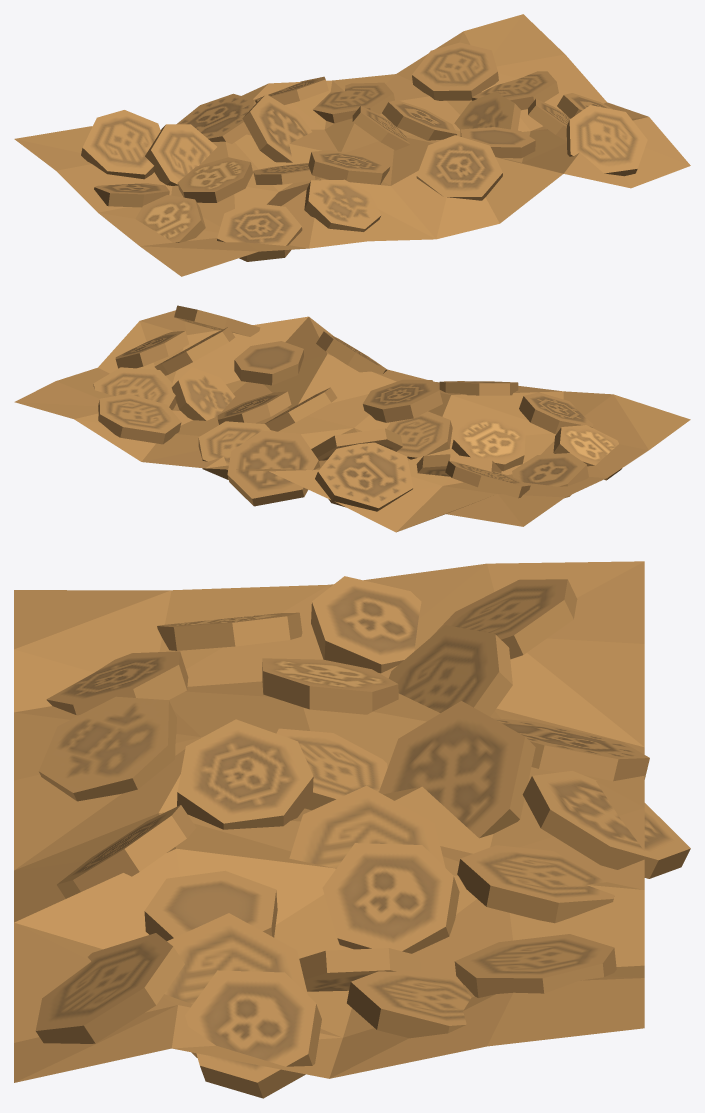
The model's file is SM_Prop_Treasure_Chest_06_Insert_01.fbx.
3 renders of one model, top to bottom at view 1: azimuth 30°, elevation 25°; view 2: azimuth 150°, elevation 25°; view 3: azimuth 270°, elevation 25°, orthographic. The views are drawn at different scales.
Parts seen in each view (by area): view 1: SM_Prop_Treasure_Chest_06_Insert_01; view 2: SM_Prop_Treasure_Chest_06_Insert_01; view 3: SM_Prop_Treasure_Chest_06_Insert_01.
Boxes of the visible parts, x1,y1,x2,y2 form: SM_Prop_Treasure_Chest_06_Insert_01: [14, 14, 690, 276]; SM_Prop_Treasure_Chest_06_Insert_01: [14, 305, 690, 532]; SM_Prop_Treasure_Chest_06_Insert_01: [14, 561, 690, 1098].
Bounding box in the file's own units: 71.65 × 10.53 × 43.69.
